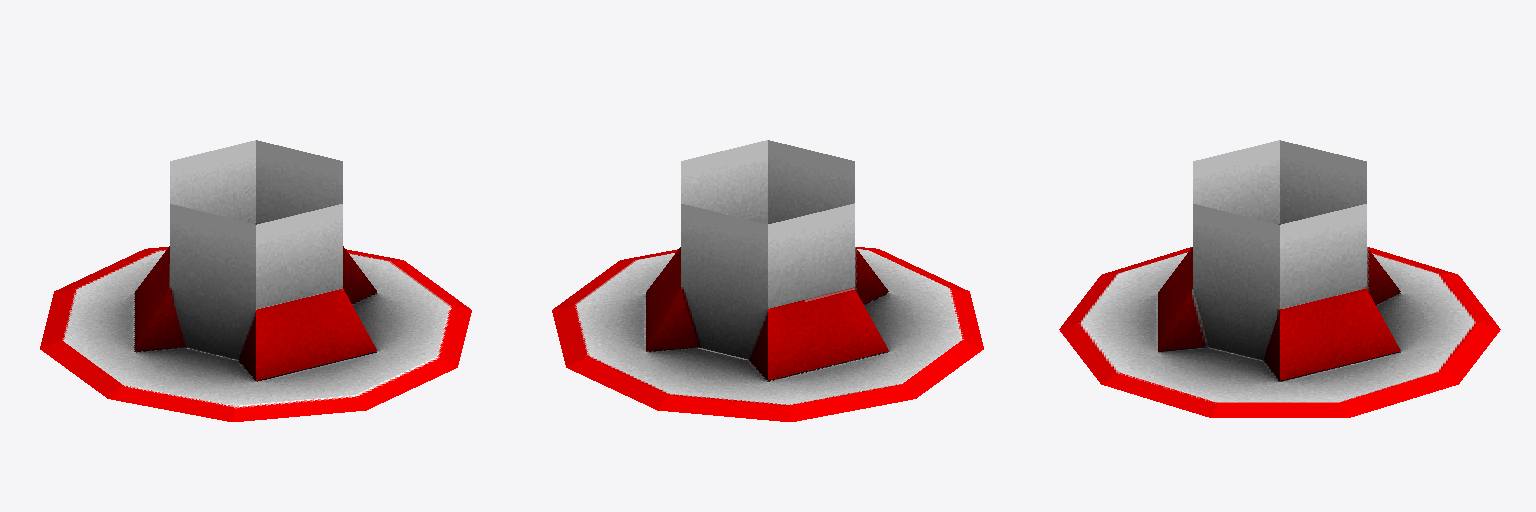
3 views of the same model, side by side, from view 1: azimuth 30°, elevation 25°; view 2: azimuth 150°, elevation 25°; view 3: azimuth 270°, elevation 25° (orthographic).
Visible parts, largest first — view 1: Cylinder.000; view 2: Cylinder.000; view 3: Cylinder.000.
Boxes of the visible parts, x1=… form: Cylinder.000: x1=40, y1=140, x2=471, y2=421; Cylinder.000: x1=552, y1=140, x2=983, y2=421; Cylinder.000: x1=1059, y1=140, x2=1500, y2=417.
Bounding box in the file's own units: 8.34 × 3.22 × 8.77.
1 materials, 1 textured.